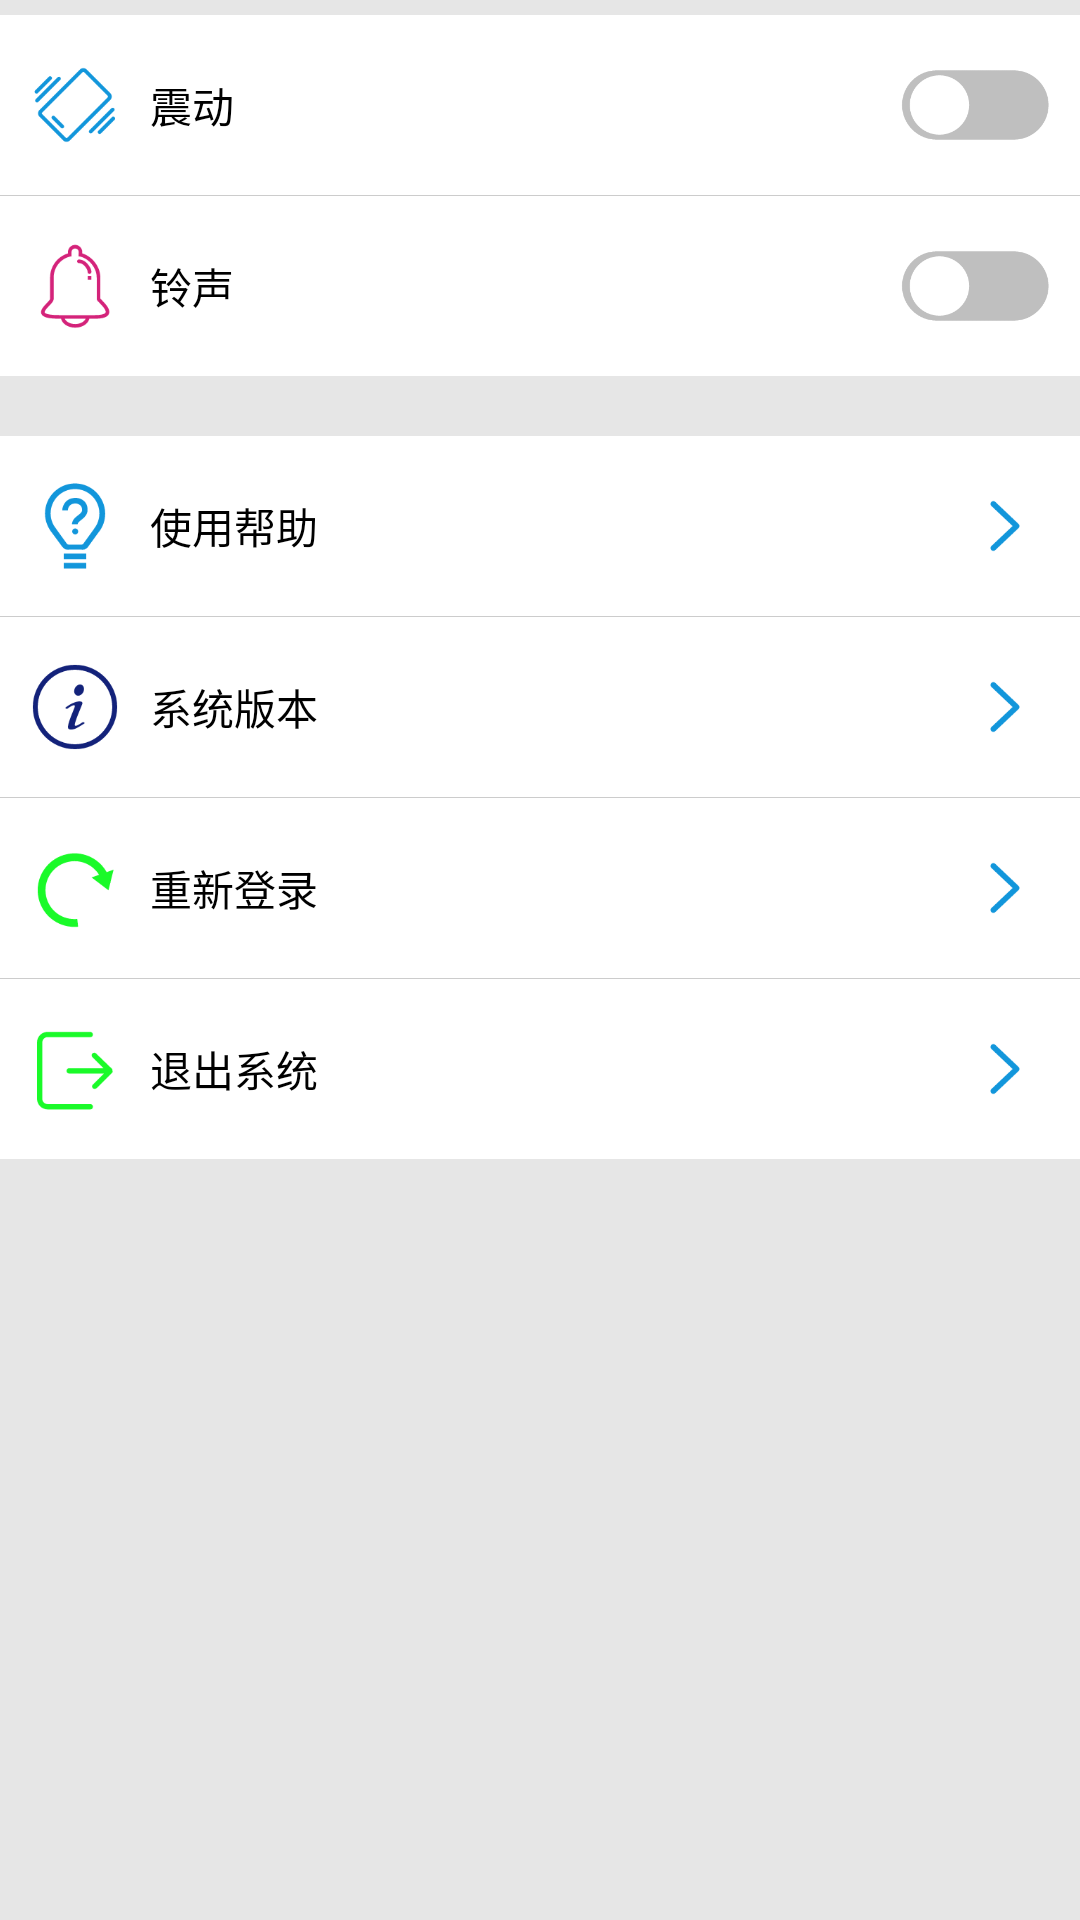

Where icons sit on this 1080 x 1920 app screen, as [x1,y1,x2,y2]:
alarm: [41,244,110,328]
exit: [37,1031,113,1110]
help: [45,483,106,569]
retry: [37,853,114,927]
rightarrow: [990,501,1020,551], [990,682,1020,732], [990,863,1020,913], [990,1044,1020,1094]
switch left: [902,70,1049,140], [902,251,1049,321]
version: [33,665,117,749]
vibrate: [34,68,115,142]
